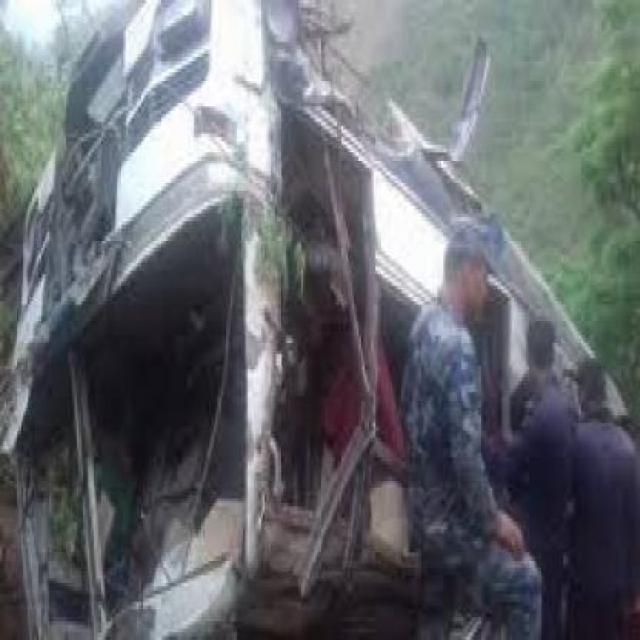accident: (13, 7, 441, 631)
